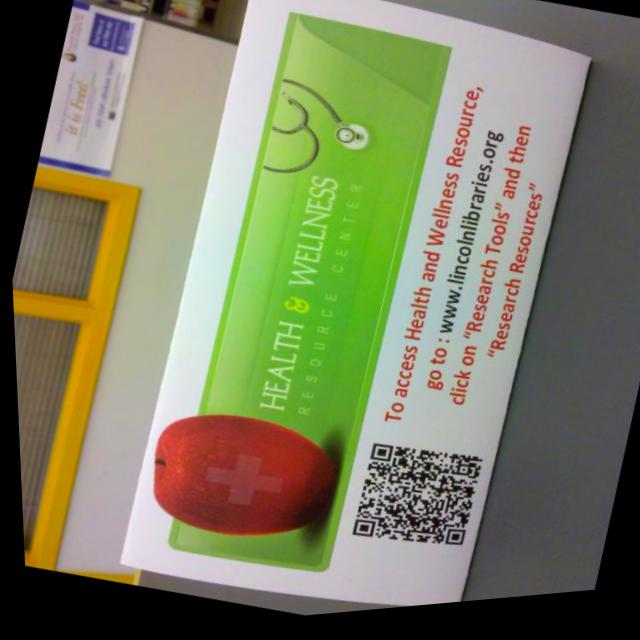qrcode: (345, 436, 483, 570)
